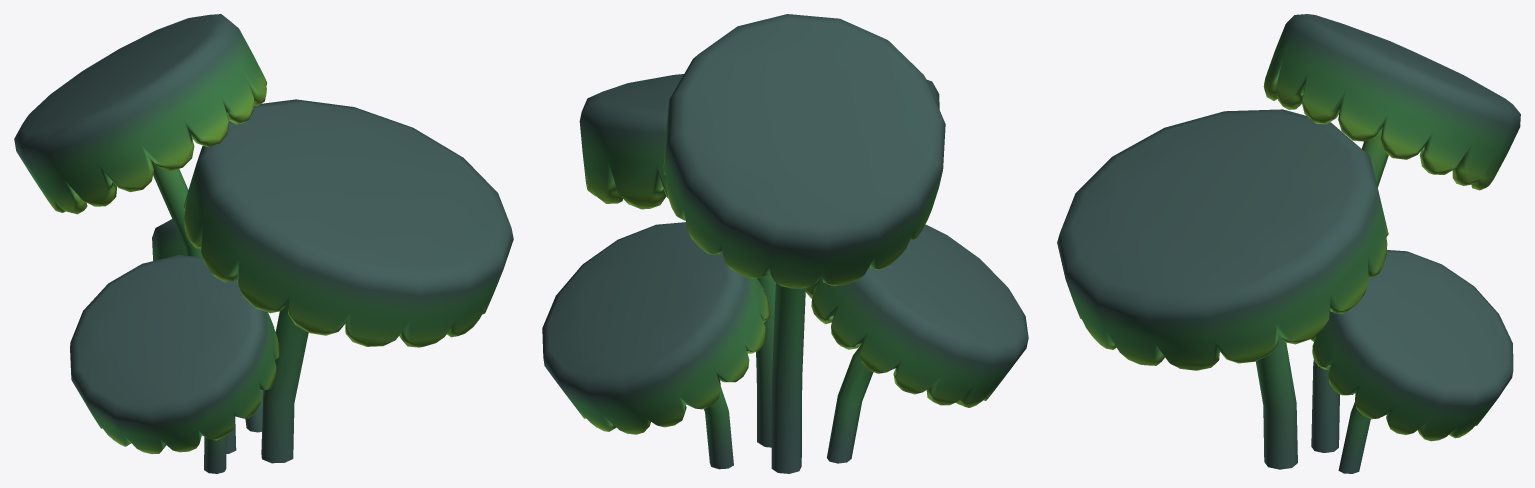
Rendered from Plants_013.fbx.
3 views of the same model, side by side, from view 1: azimuth 30°, elevation 25°; view 2: azimuth 150°, elevation 25°; view 3: azimuth 270°, elevation 25° (orthographic). The views are drawn at different scales.
Visible parts, largest first — view 1: Plants.013; view 2: Plants.013; view 3: Plants.013.
Boxes of the visible parts, x1,y1,x2,y2 form: Plants.013: (14,14,513,473); Plants.013: (542,14,1028,473); Plants.013: (1057,14,1520,473).
Bounding box in the file's own units: 632 × 638 × 651.
